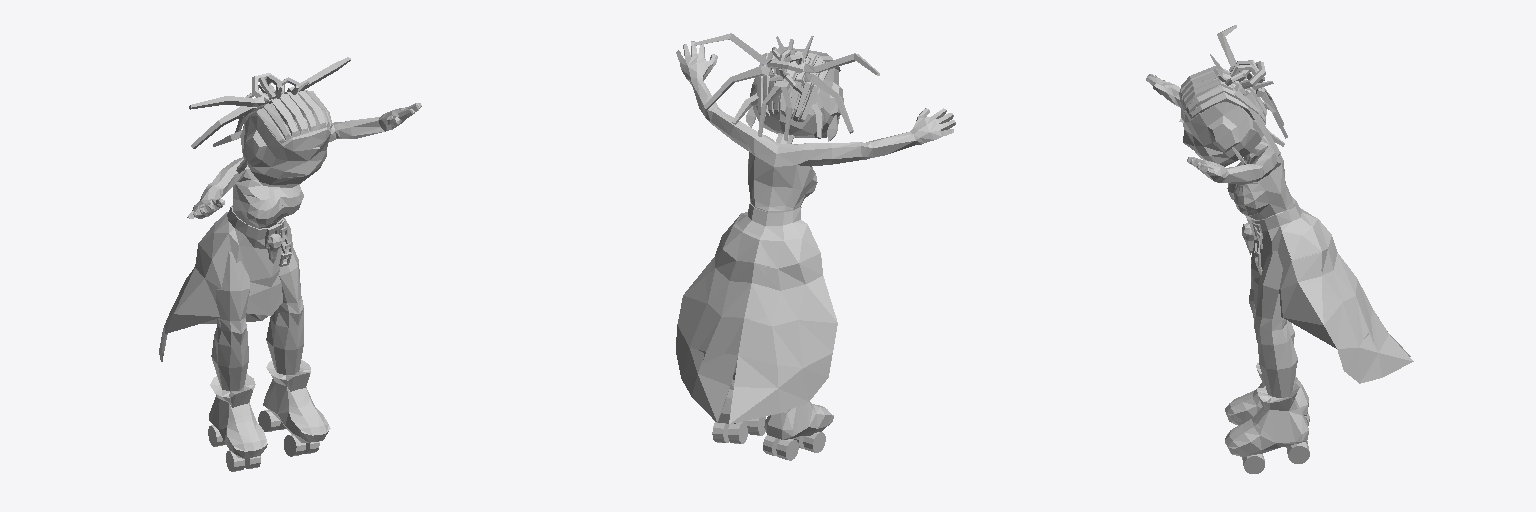
Rendered from bruja_000199.obj.
The picture shows the model from 3 angles: view 1: azimuth 30°, elevation 25°; view 2: azimuth 150°, elevation 25°; view 3: azimuth 270°, elevation 25°; orthographic projection.
Parts seen in each view (by area): view 1: Bruja_Plane.001; view 2: Bruja_Plane.001; view 3: Bruja_Plane.001.
Part boxes in pixels (x1,y1,x2,y2): Bruja_Plane.001: (159, 57, 421, 471); Bruja_Plane.001: (676, 33, 955, 460); Bruja_Plane.001: (1146, 25, 1413, 473).
Size of the model in its own units: 10.91 by 16.16 by 9.94.